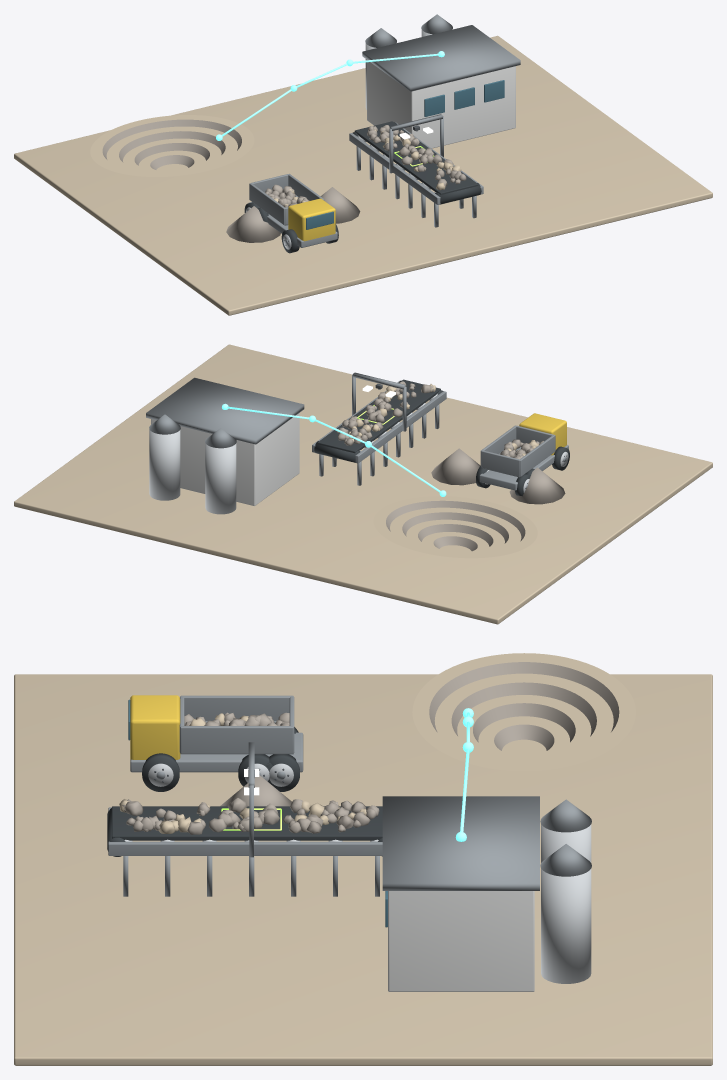
File: mine-to-plant-platform.glb
The picture shows the model from 3 angles, top to bottom: view 1: azimuth 30°, elevation 25°; view 2: azimuth 150°, elevation 25°; view 3: azimuth 270°, elevation 25°; orthographic projection. The views are drawn at different scales.
Parts seen in each view (by area): view 1: Ground_0001, Building_0013, Roof_0014, Terrace_0002, Rubber_Belt_0045, Terrace_0004, Cab_0133, Pile_0011, Terrace_0003, Steel_Rail_0022, Terrace_0005, Terrace_0006 (+5 smaller); view 2: Ground_0001, Roof_0014, Building_0013, Terrace_0002, Silo_0018, Silo_0020, Rubber_Belt_0045, Terrace_0004, Pile_0012, Terrace_0003, Pile_0011, Terrace_0005 (+9 smaller); view 3: Ground_0001, Building_0013, Roof_0014, Terrace_0002, Silo_0020, Rubber_Belt_0045, Steel_Rail_0023, Terrace_0004, Sidewall_0227, Cab_0133, Terrace_0003, Terrace_0006 (+11 smaller).
Part boxes in pixels (<box>): Ground_0001: <box>14,35,712,315</box>; Building_0013: <box>367,60,515,148</box>; Roof_0014: <box>362,25,520,91</box>; Terrace_0002: <box>90,115,254,176</box>; Rubber_Belt_0045: <box>354,121,478,194</box>; Terrace_0004: <box>106,126,237,172</box>; Cab_0133: <box>288,198,335,241</box>; Pile_0011: <box>226,206,280,242</box>; Terrace_0003: <box>102,119,241,159</box>; Steel_Rail_0022: <box>349,133,440,204</box>; Terrace_0005: <box>119,131,225,162</box>; Terrace_0006: <box>123,138,221,171</box>; Ground_0001: <box>14,344,712,624</box>; Roof_0014: <box>146,377,304,444</box>; Building_0013: <box>151,413,299,506</box>; Terrace_0002: <box>373,496,537,558</box>; Silo_0018: <box>205,443,236,514</box>; Silo_0020: <box>149,429,180,500</box>; Rubber_Belt_0045: <box>317,379,440,453</box>; Terrace_0004: <box>390,507,521,553</box>; Pile_0012: <box>431,448,480,485</box>; Terrace_0003: <box>386,500,525,541</box>; Pile_0011: <box>509,467,565,504</box>; Terrace_0005: <box>402,512,508,543</box>; Ground_0001: <box>14,674,712,1065</box>; Building_0013: <box>388,891,534,991</box>; Roof_0014: <box>382,796,539,890</box>; Terrace_0002: <box>412,653,635,771</box>; Silo_0020: <box>541,868,591,983</box>; Rubber_Belt_0045: <box>112,806,382,840</box>; Steel_Rail_0023: <box>108,841,382,855</box>; Terrace_0004: <box>434,673,613,762</box>; Sidewall_0227: <box>180,726,293,754</box>; Cab_0133: <box>130,695,180,759</box>; Terrace_0003: <box>429,662,619,732</box>; Terrace_0006: <box>457,695,591,759</box>.
Bounding box in the file's own units: 13 × 2.32 × 10.
